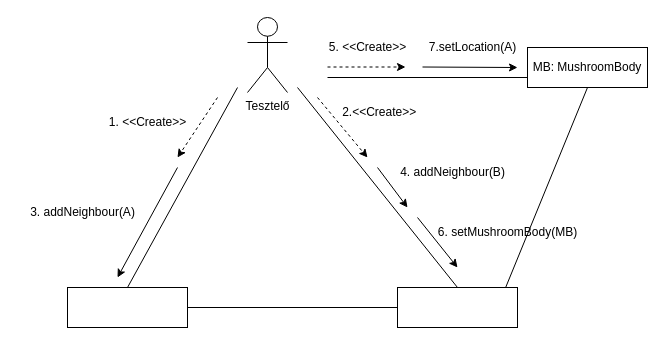
The diagram is 665 pixels wide and 345 high, and some of its shapes have lost their labels. Each missing label, with the centre of its shape:
A: Tecton: [457,307]
B: Tecton: [127,307]
